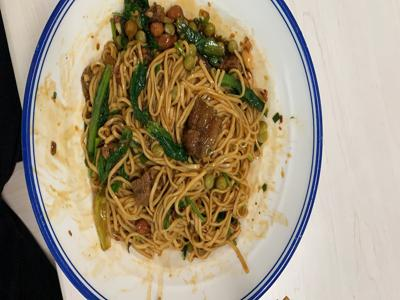cm: (80, 18, 263, 256)
